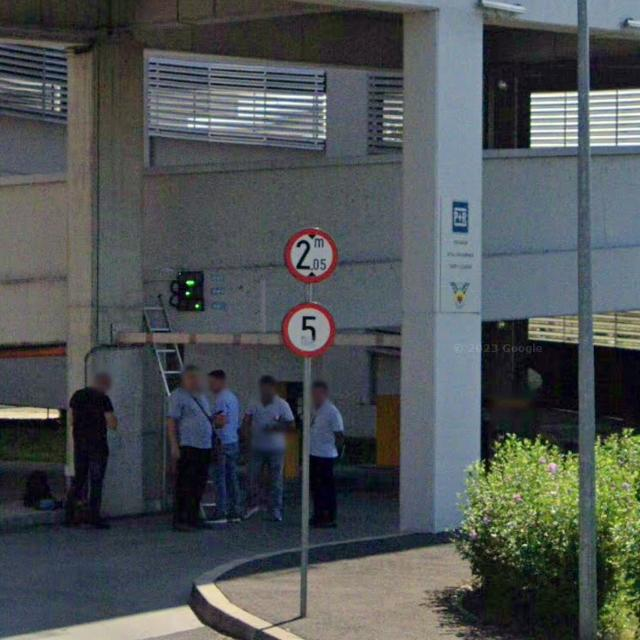forb_speed_over_5: (282, 303, 335, 357)
